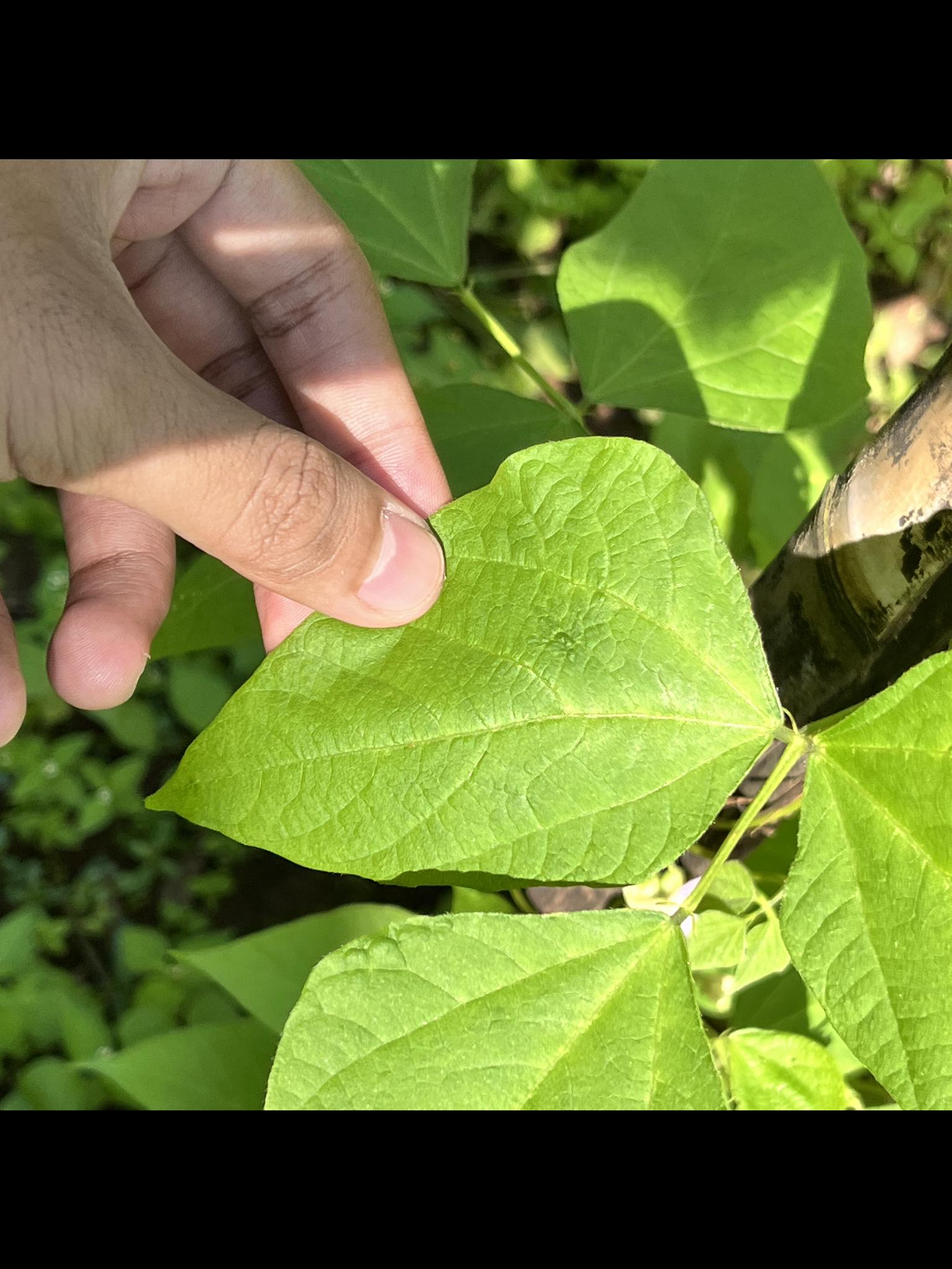sehat: (137, 428, 770, 898)
